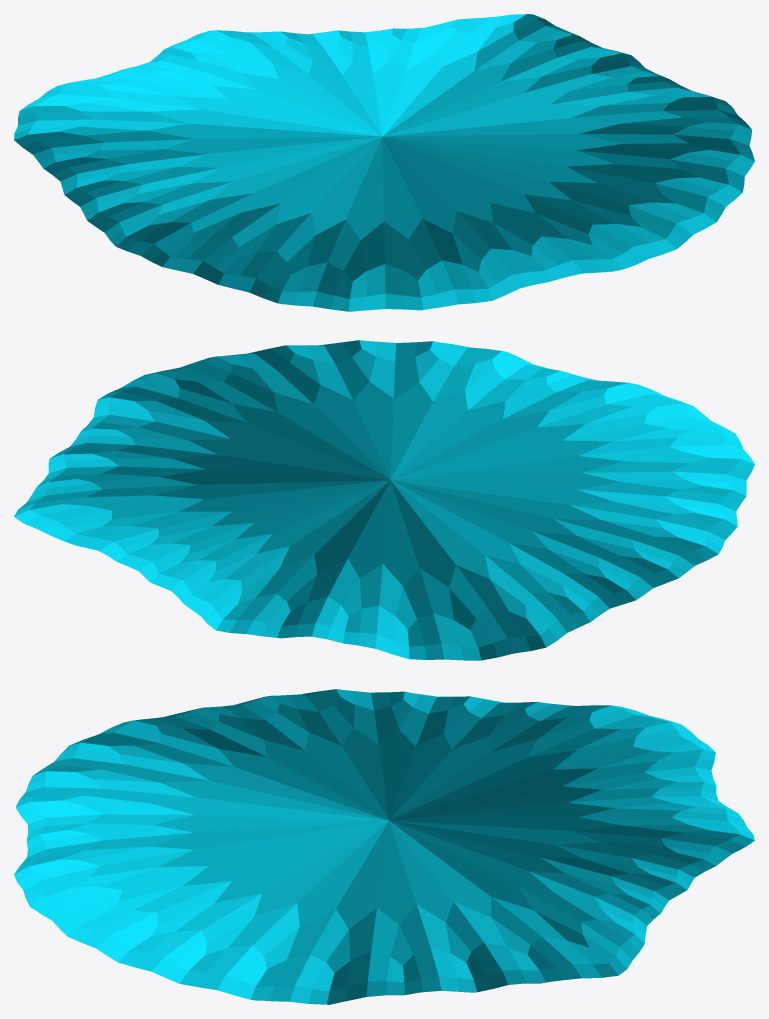
Rendered from Water.obj.
3 views of the same model, one above another, from view 1: azimuth 30°, elevation 25°; view 2: azimuth 150°, elevation 25°; view 3: azimuth 270°, elevation 25° (orthographic). The views are drawn at different scales.
Parts seen in each view (by area): view 1: obj1; view 2: obj1; view 3: obj1.
Part boxes in pixels (left/top/right/bottom): obj1: left=14, top=14, right=754, bottom=311; obj1: left=14, top=340, right=754, bottom=660; obj1: left=14, top=689, right=754, bottom=1004.
Size of the model in its own units: 2.42 by 0.15 by 2.41.
